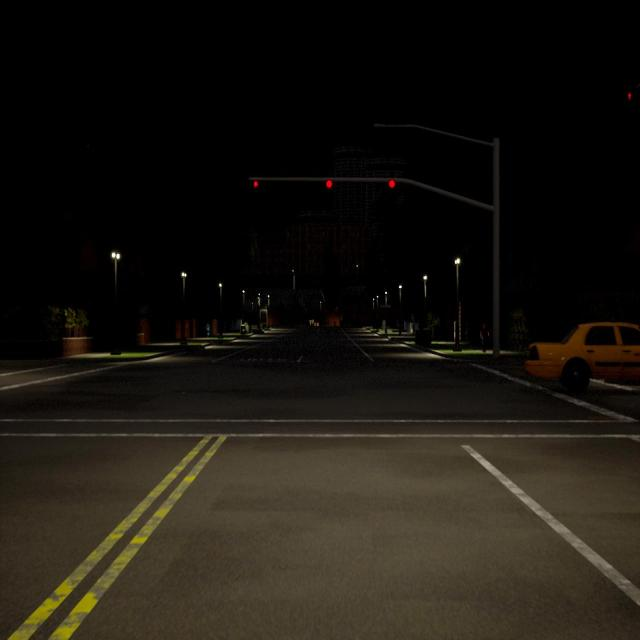Pedestrian: (481, 324, 489, 352)
Vehicle: (524, 323, 640, 392)
traffic_light: (326, 180, 333, 189), (389, 180, 395, 188), (253, 180, 258, 188), (627, 92, 632, 100)
